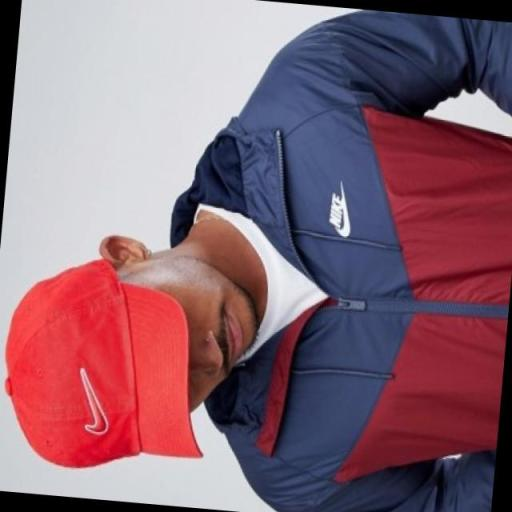Nike: (336, 191, 355, 238), (330, 191, 344, 228)
